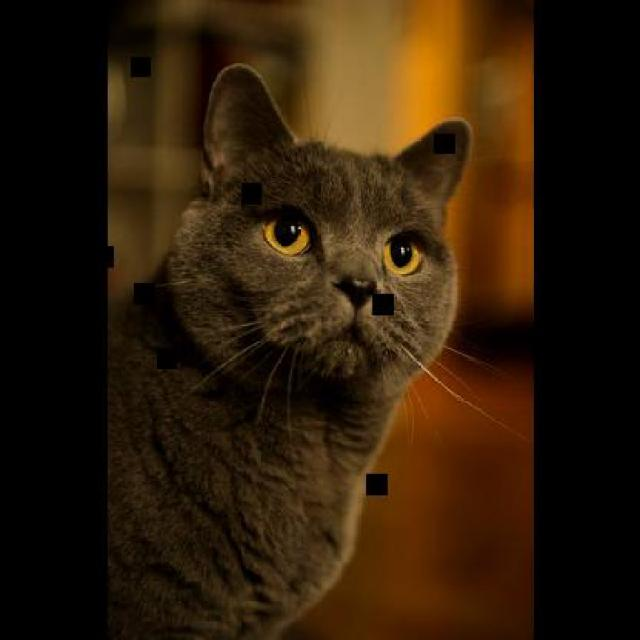unauthorized: (106, 60, 525, 638)
